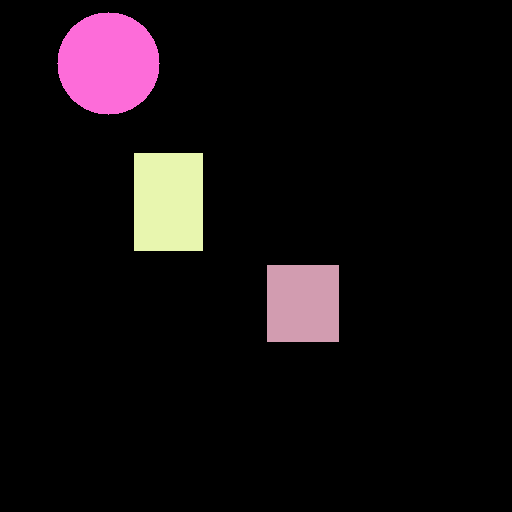circle: (57, 12, 159, 114)
rectangle: (134, 153, 202, 250)
square: (267, 265, 338, 341)
